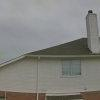Chimney: (78, 4, 100, 56)
